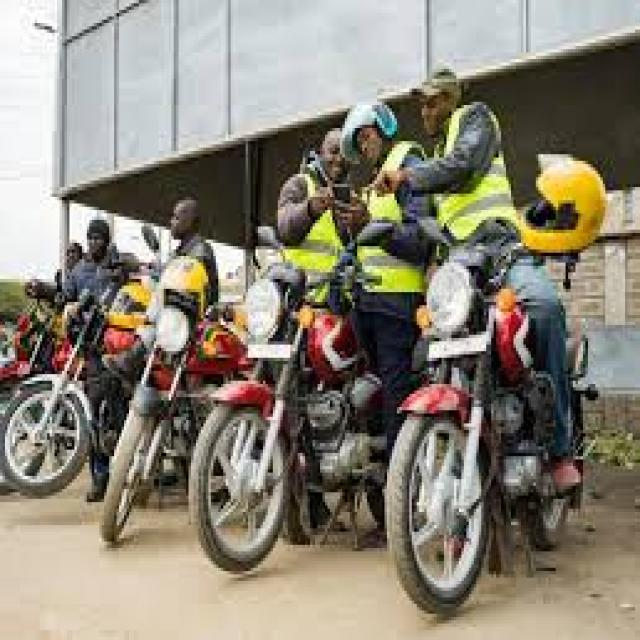bodaboda: (355, 149, 640, 620), (183, 182, 407, 600)
